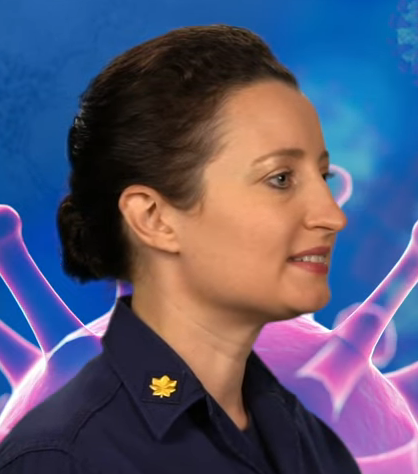without_mask: (77, 47, 344, 338)
